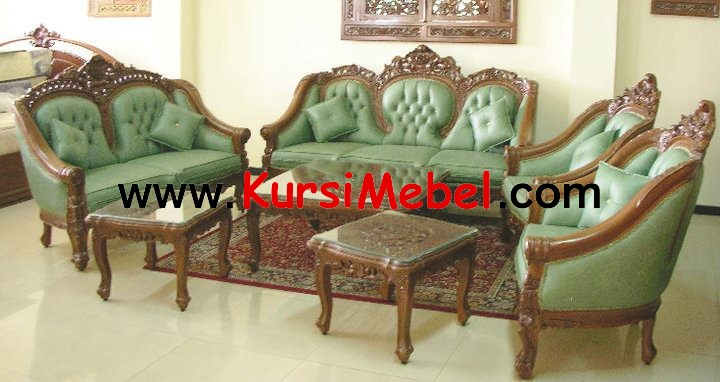Carving Chair: (504, 93, 693, 372)
Carving Table: (309, 209, 483, 371), (102, 186, 251, 309)
